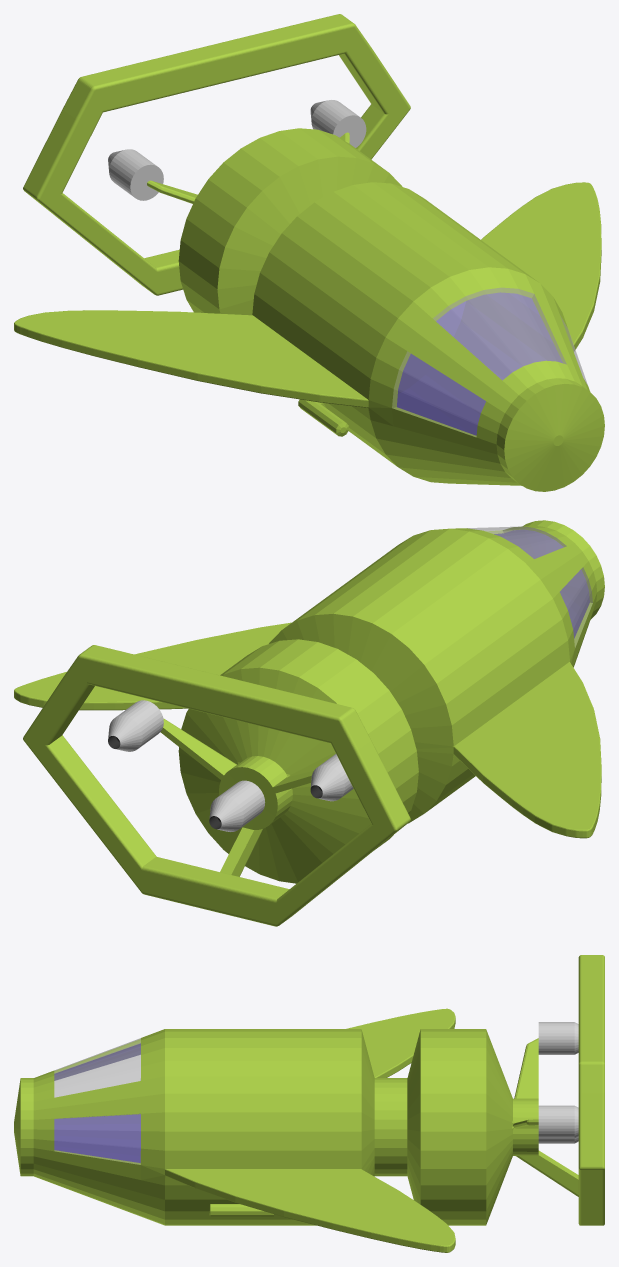
File: ElectroImpulseShip.fbx
3 views of the same model, one above another, from view 1: azimuth 30°, elevation 25°; view 2: azimuth 150°, elevation 25°; view 3: azimuth 270°, elevation 25° (orthographic). The views are drawn at different scales.
Visible parts, largest first — view 1: ElectroImpulse; view 2: ElectroImpulse; view 3: ElectroImpulse.
Part boxes in pixels (box(x1,y1,x2,y2)): ElectroImpulse: box(14, 14, 604, 491); ElectroImpulse: box(14, 520, 604, 926); ElectroImpulse: box(14, 955, 604, 1252).
Size of the model in its own units: 858 by 350 by 901.
